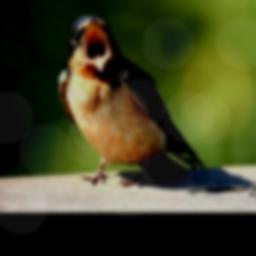Swallow: (57, 13, 207, 187)
